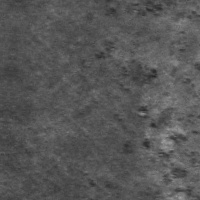rolled-in_scale: (132, 67, 199, 199), (92, 37, 161, 89), (104, 0, 199, 28)
